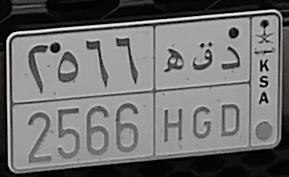2: (27, 44, 53, 163)
5: (56, 50, 81, 159)
6: (114, 37, 140, 152), (84, 40, 109, 157)
D: (221, 45, 241, 138)
G: (192, 42, 213, 139)
H: (163, 48, 185, 142)
